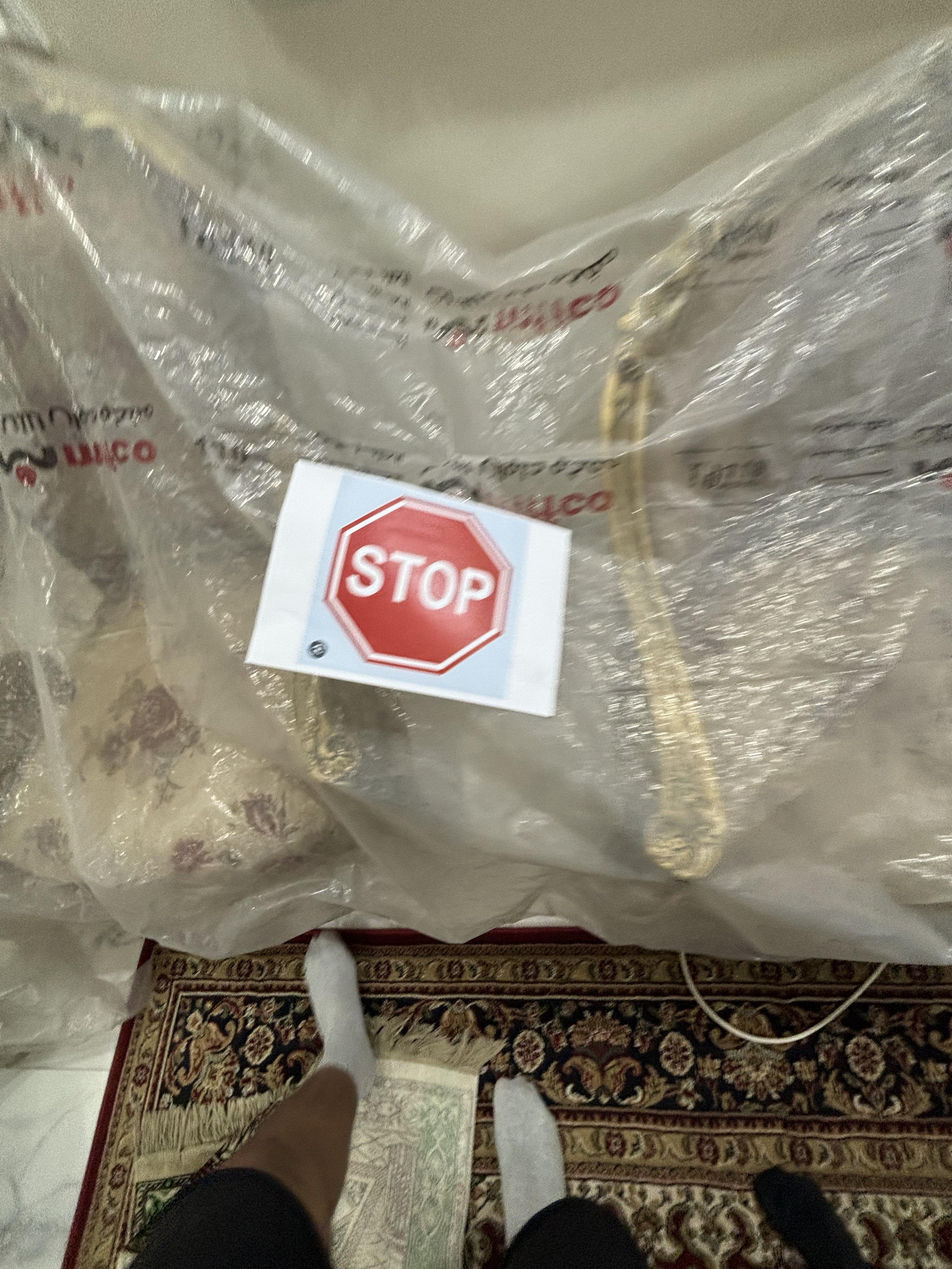Stop: (324, 501, 511, 679)
